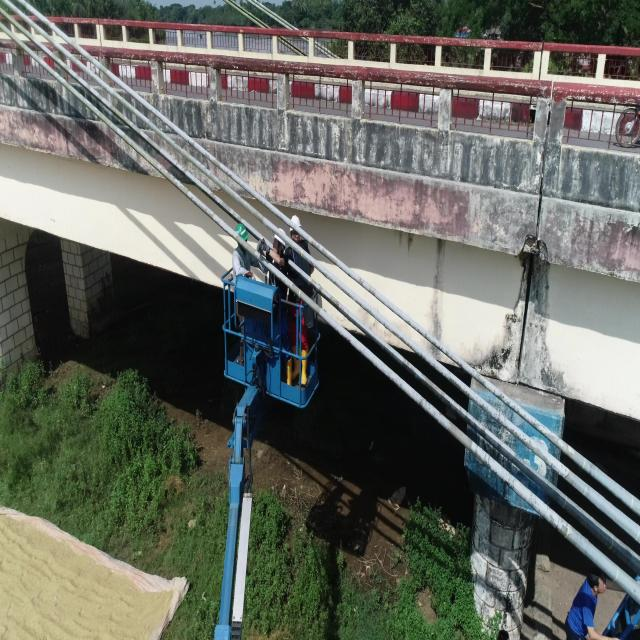crack: (482, 452, 487, 460), (488, 456, 490, 463), (370, 308, 372, 313), (493, 389, 495, 394), (433, 363, 435, 367), (160, 167, 162, 170), (264, 202, 266, 205), (384, 322, 385, 327), (340, 331, 341, 335), (392, 352, 393, 356), (188, 140, 189, 144), (222, 202, 223, 205)
